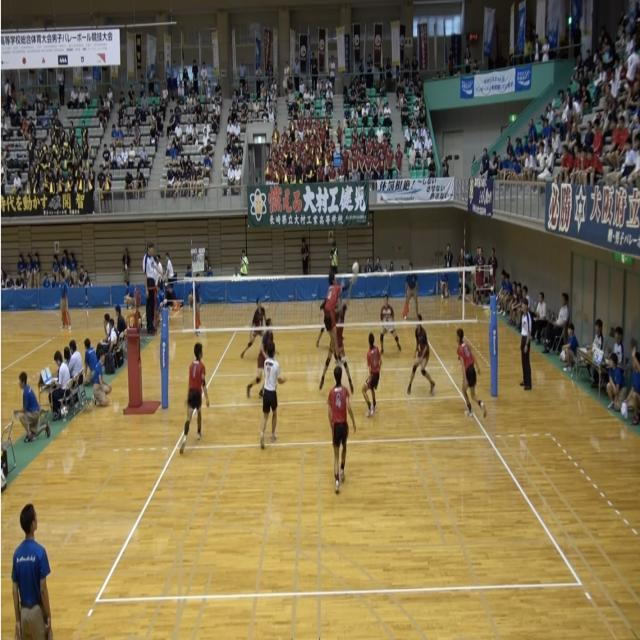spike: (318, 256, 361, 372)
